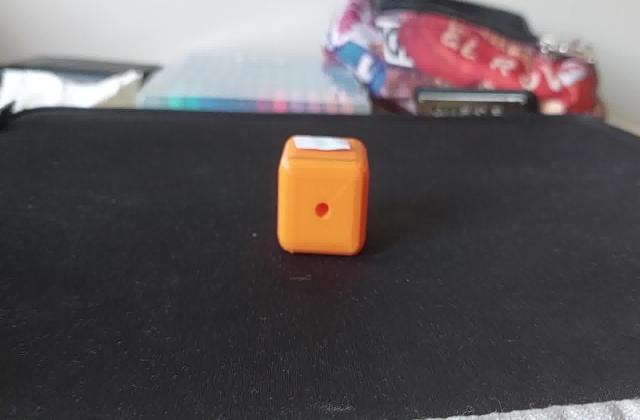cube: (272, 133, 373, 261)
white: (290, 134, 354, 156)
